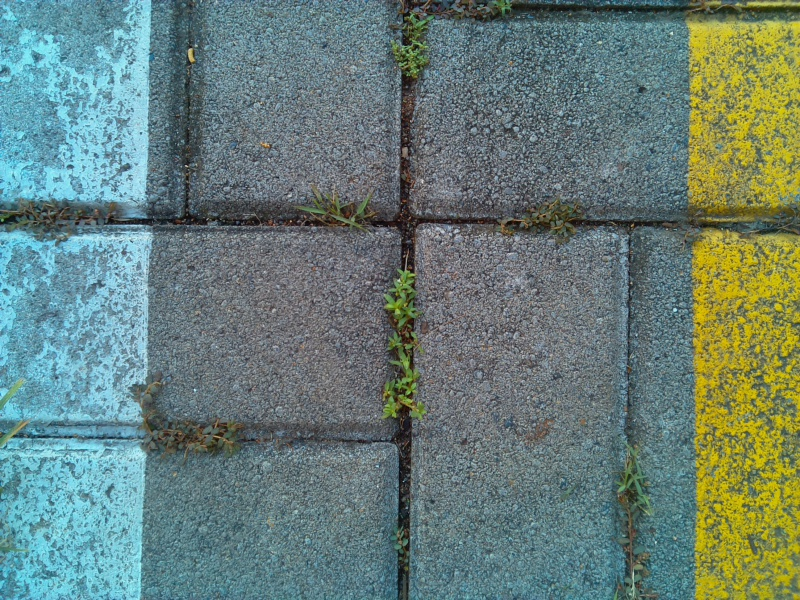Weed: (117, 371, 234, 458), (1, 189, 121, 256), (369, 330, 450, 423), (282, 184, 380, 245), (486, 197, 588, 248), (606, 441, 664, 520), (385, 11, 442, 85), (373, 263, 427, 329), (380, 523, 426, 577)
